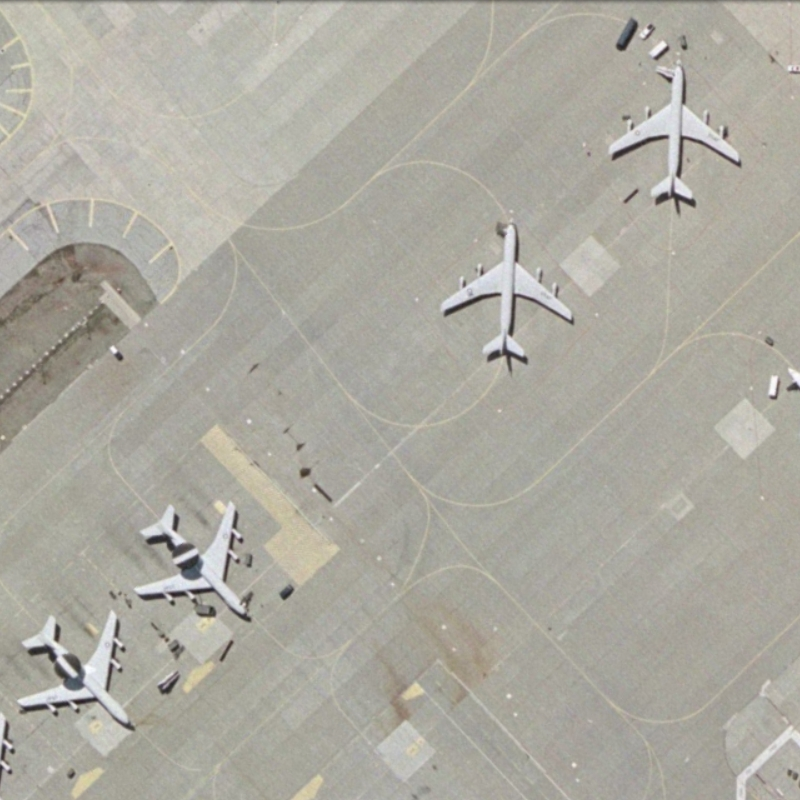A11: (603, 62, 746, 205), (442, 216, 576, 367)
A7: (130, 493, 269, 632), (11, 611, 137, 739)
